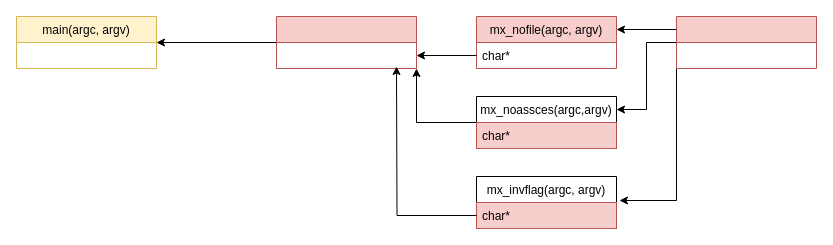
This 833x245 diagram has some shape labels left out. The shapes that lost their labels are listed below. From the top down, each one's centre as x and y in pixels, then its label:
point (346, 42): mx_errors(argc, argv)
point (746, 42): mx_printerr(char *)
